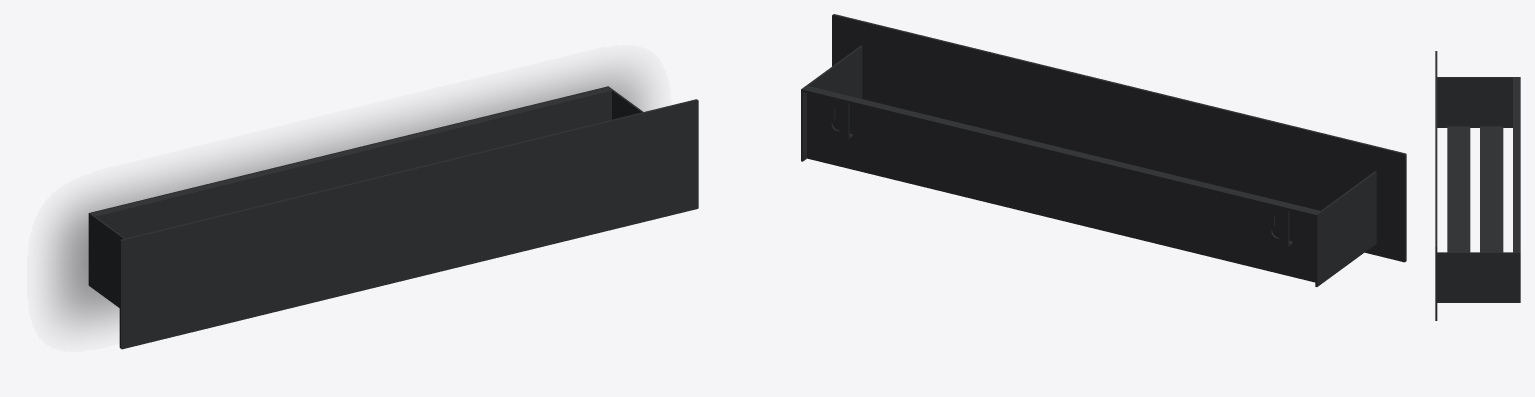
Rendered from skyline-mono.382f54795b.ar.glb.
The picture shows the model from 3 angles, left to right: view 1: azimuth 30°, elevation 25°; view 2: azimuth 150°, elevation 25°; view 3: azimuth 270°, elevation 25°; orthographic projection. The views are drawn at different scales.
Visible parts, largest first — view 1: NAUO1, object 2; view 2: NAUO1; view 3: NAUO1.
Boxes of the visible parts, x1=… form: NAUO1: x1=88, y1=86, x2=698, y2=349; object 2: x1=49, y1=70, x2=648, y2=326; NAUO1: x1=801, y1=14, x2=1406, y2=286; NAUO1: x1=1435, y1=51, x2=1520, y2=320.
Bounding box in the file's own units: 0.58 × 0.17 × 0.092.
2 materials, 1 textured.
